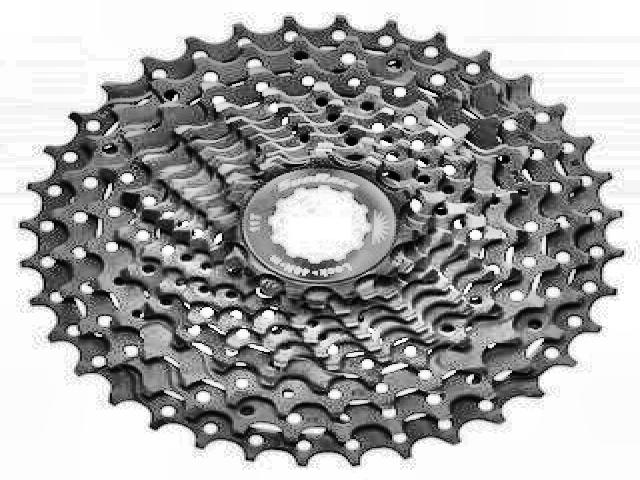cassette: (22, 15, 625, 466)
